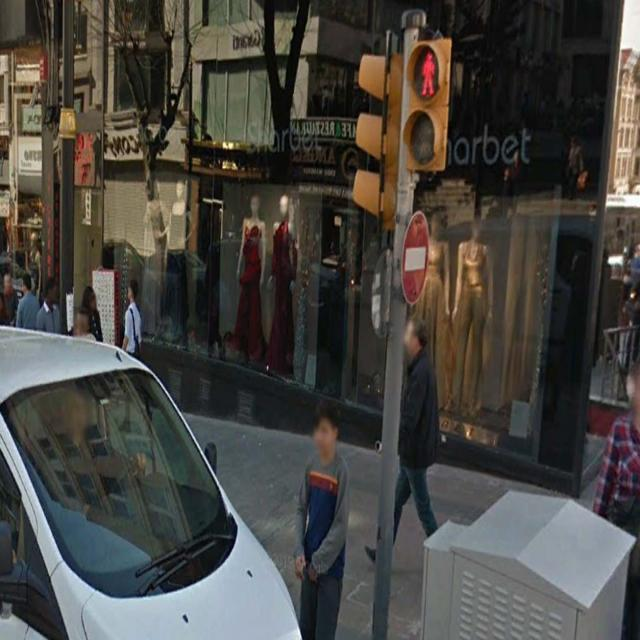girisyok: (400, 210, 429, 306)
